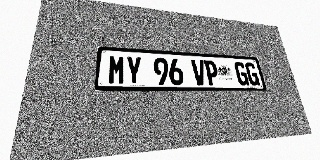6: (168, 58, 184, 85)
9: (153, 57, 170, 85)
G: (234, 62, 250, 86), (244, 62, 260, 86)
M: (108, 55, 125, 85)
P: (204, 60, 220, 85)
V: (191, 59, 207, 85)
Y: (126, 56, 142, 85)
